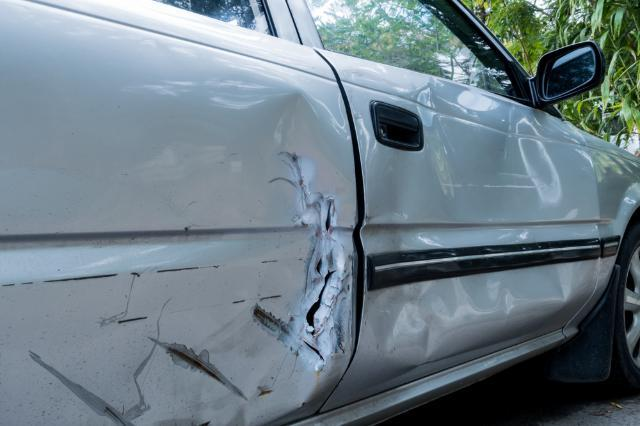crack: (305, 269, 337, 337), (302, 340, 328, 364), (324, 201, 332, 233), (316, 257, 323, 277)
dent: (366, 87, 576, 357), (136, 91, 328, 295)
scratch: (25, 351, 155, 426), (153, 340, 246, 401), (248, 304, 288, 334)
